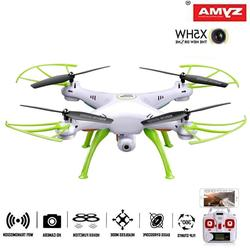drone: (4, 62, 247, 181)
